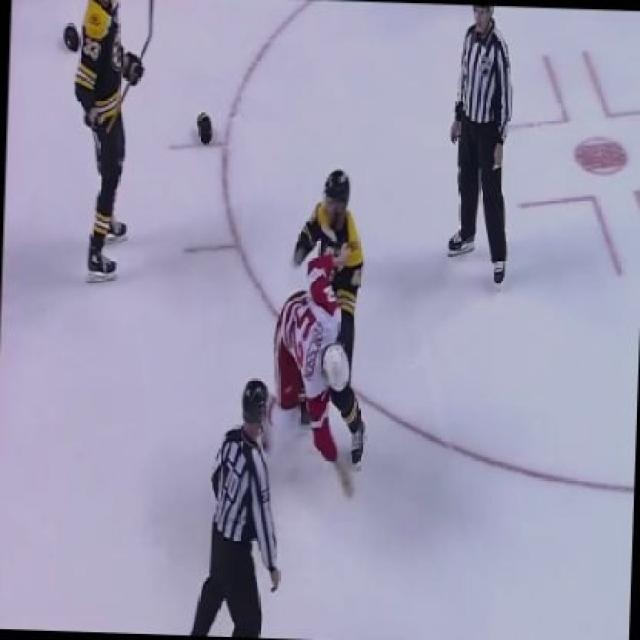fight: (249, 157, 388, 505)
non-fight: (176, 374, 296, 638), (54, 0, 161, 286), (426, 1, 531, 292)
